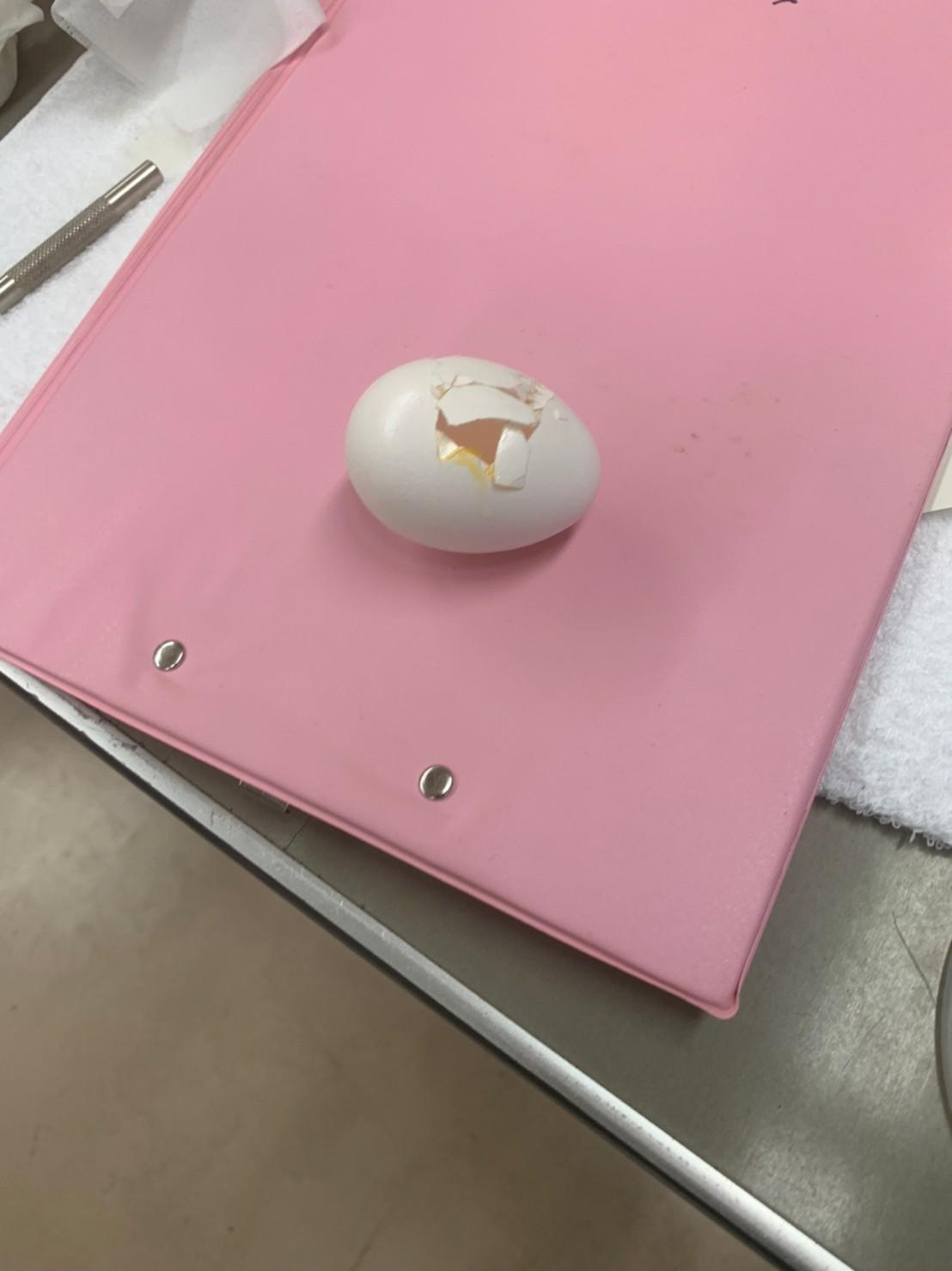egg: (335, 348, 602, 564)
